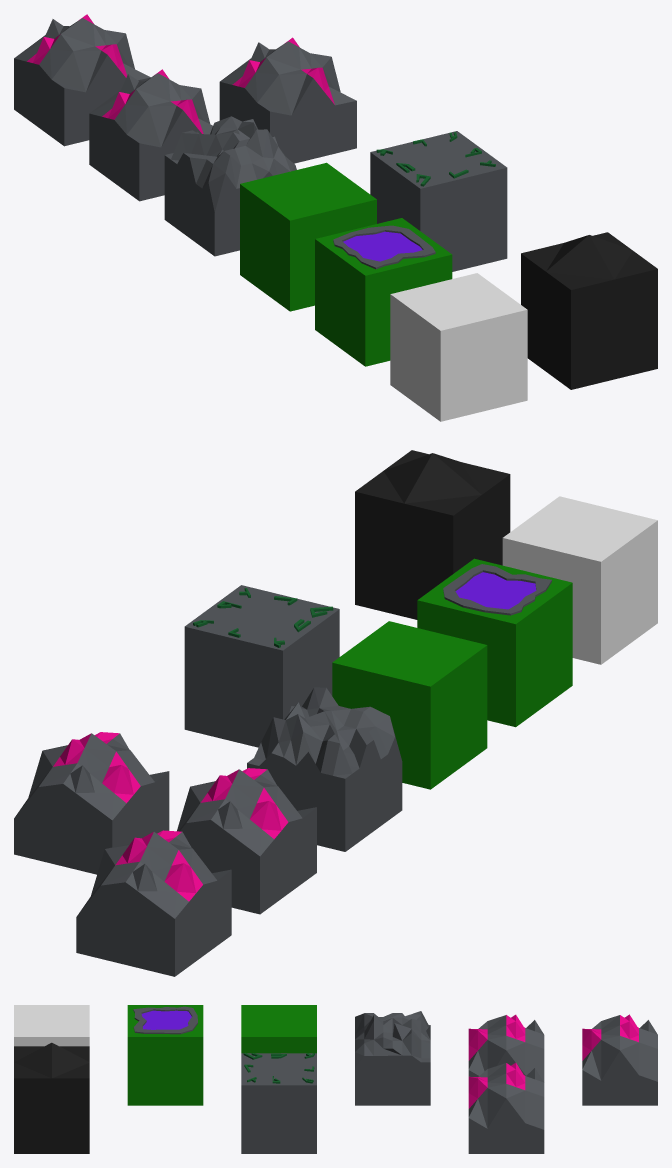
File: Map1_Tiles.dae
3 renders of one model, top to bottom at view 1: azimuth 30°, elevation 25°; view 2: azimuth 150°, elevation 25°; view 3: azimuth 270°, elevation 25°, orthographic. The views are drawn at different scales.
Visible parts, largest first — view 1: Unbreakable, Empty, ExitPortal, PlayerSpawn, Ground, CrystalGreen, CenterRock, CrystalBlue, Crystal; view 2: Unbreakable, ExitPortal, Ground, CrystalBlue, PlayerSpawn, Empty, CenterRock, CrystalGreen, Crystal; view 3: Unbreakable, PlayerSpawn, ExitPortal, CenterRock, CrystalGreen, CrystalBlue, Crystal, Ground, Empty.
Boxes of the visible parts, <box> form: Unbreakable: <box>521,232,657,389</box>; Empty: <box>390,273,527,421</box>; ExitPortal: <box>370,131,507,271</box>; PlayerSpawn: <box>315,218,452,366</box>; Ground: <box>240,162,376,311</box>; CrystalGreen: <box>219,37,356,163</box>; CenterRock: <box>164,116,296,256</box>; CrystalBlue: <box>14,14,150,146</box>; Crystal: <box>89,69,212,201</box>; Unbreakable: <box>355,450,510,619</box>; ExitPortal: <box>184,585,339,747</box>; Ground: <box>332,621,487,789</box>; CrystalBlue: <box>76,830,231,976</box>; PlayerSpawn: <box>417,558,572,727</box>; Empty: <box>502,496,657,664</box>; CenterRock: <box>247,687,402,851</box>; CrystalGreen: <box>14,732,169,874</box>; Crystal: <box>177,768,316,914</box>; Unbreakable: <box>14,1042,89,1153</box>; PlayerSpawn: <box>127,1005,203,1105</box>; ExitPortal: <box>241,1052,316,1153</box>; CenterRock: <box>355,1011,430,1105</box>; CrystalGreen: <box>468,1062,544,1153</box>; CrystalBlue: <box>582,1014,657,1105</box>; Crystal: <box>468,1014,544,1082</box>; Ground: <box>241,1005,316,1053</box>; Empty: <box>14,1005,89,1046</box>.
Size of the model in its own units: 5 by 17 by 2.78.
